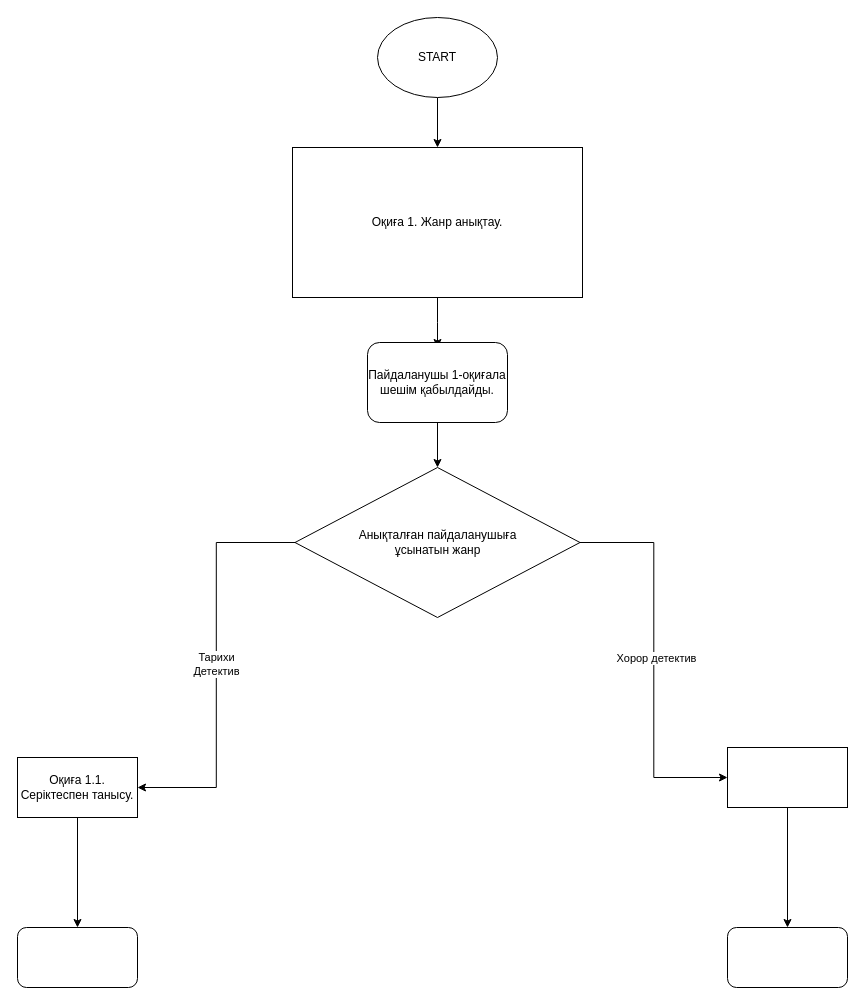
Some shapes in this 865 by 1005 pixel diagram are drawn without their labels. Here are the shapes that lost their labels. From the top down, the box of each, then its label:
(726, 746, 848, 808): Оқиға 2.1. Серіктеспен танысу.
(16, 926, 138, 988): Пайдаланушымен сөйлесу барысында
